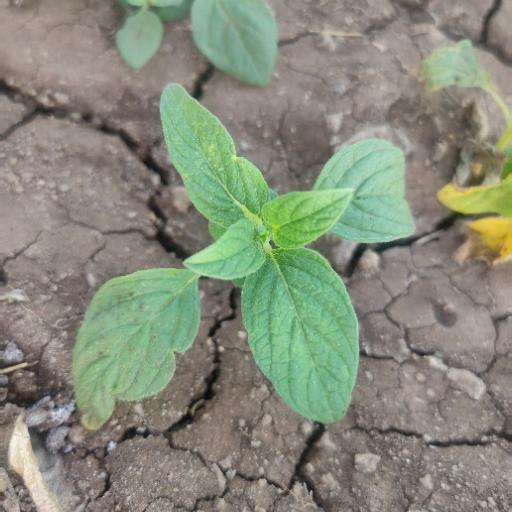crop: (74, 76, 412, 423)
